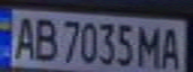0: (78, 18, 100, 65)
3: (97, 19, 118, 66)
5: (115, 20, 139, 68)
7: (57, 17, 81, 64)
A: (6, 14, 39, 61), (157, 24, 187, 70)
B: (30, 15, 60, 62)
M: (136, 22, 163, 70)
